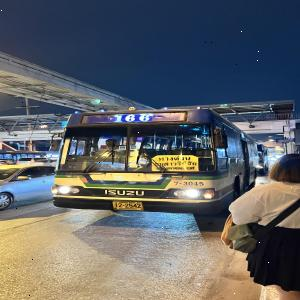BMTA-bus: (51, 108, 257, 217)
Bus Line Number: (112, 113, 155, 122)
Bus Side Number: (173, 178, 208, 188)
Destination Sign: (150, 154, 200, 172)
